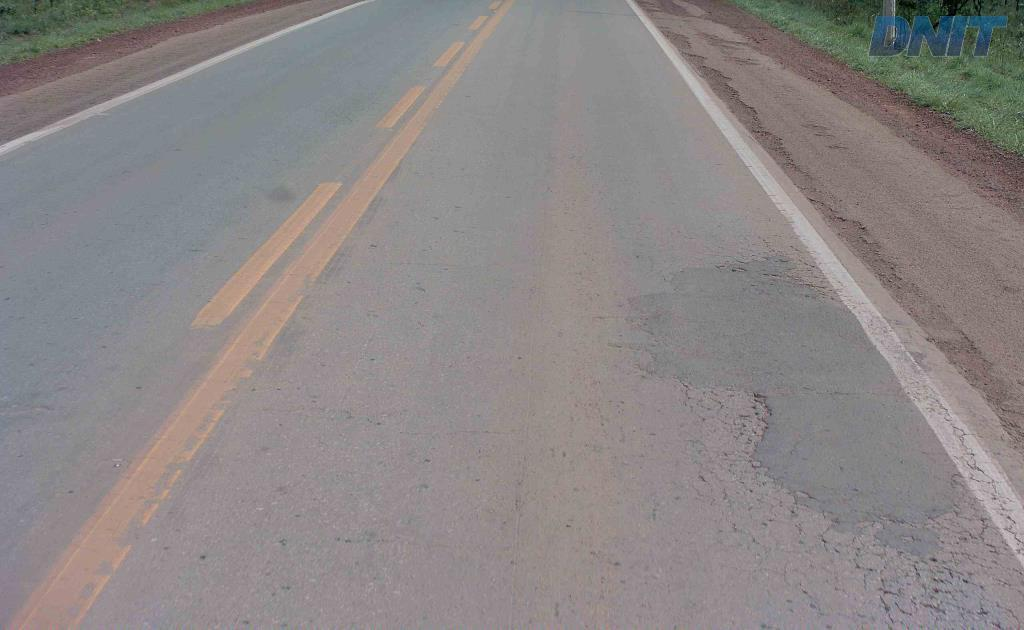crack: (741, 411, 775, 489), (909, 547, 957, 601), (929, 550, 976, 585)
